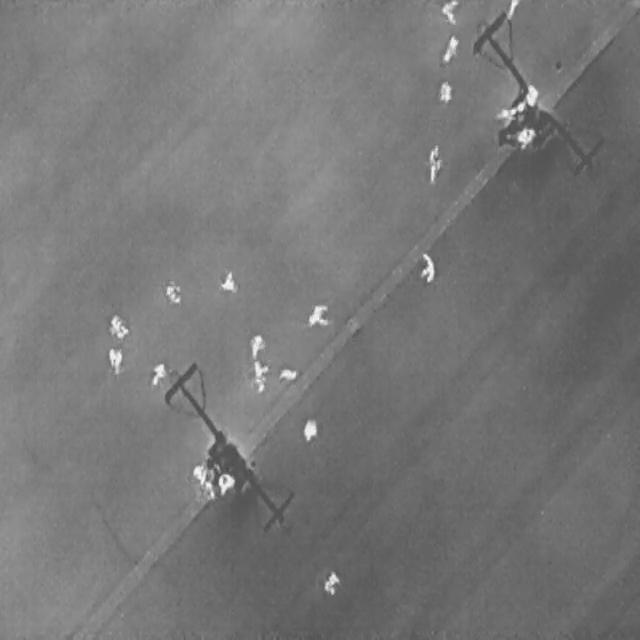Person: (495, 94, 527, 124), (438, 31, 461, 65), (148, 358, 167, 388), (428, 141, 442, 181), (107, 312, 128, 338), (418, 250, 434, 284), (251, 361, 268, 391), (306, 304, 330, 325), (516, 125, 534, 151), (162, 280, 181, 304), (441, 0, 459, 25), (107, 345, 122, 374), (216, 473, 233, 495), (324, 571, 340, 594), (218, 269, 235, 290), (190, 464, 207, 484), (303, 418, 317, 442), (438, 80, 452, 102), (526, 82, 538, 106), (250, 334, 263, 356), (504, 0, 518, 19), (202, 478, 215, 498), (279, 368, 298, 380)
